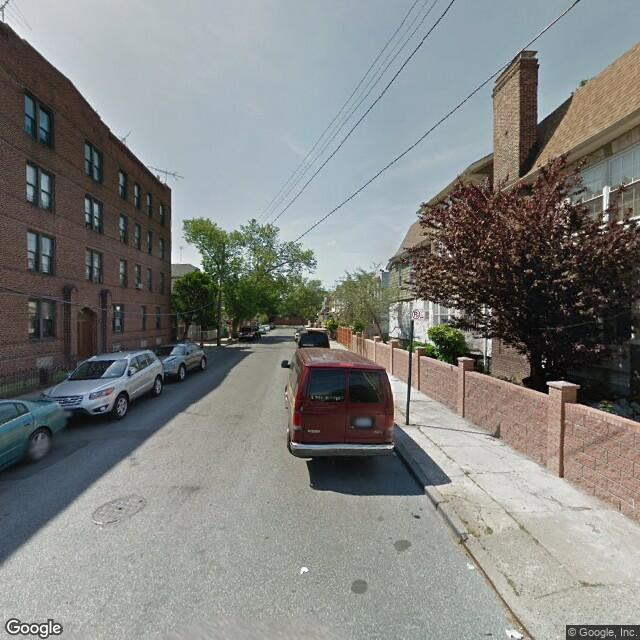litter: (460, 556, 482, 574), (501, 624, 523, 640), (293, 561, 314, 575)
